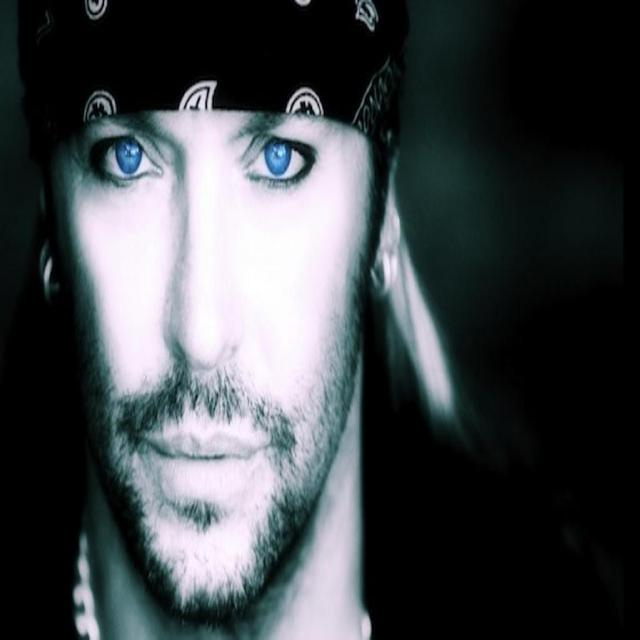nomask: (65, 11, 366, 602)
